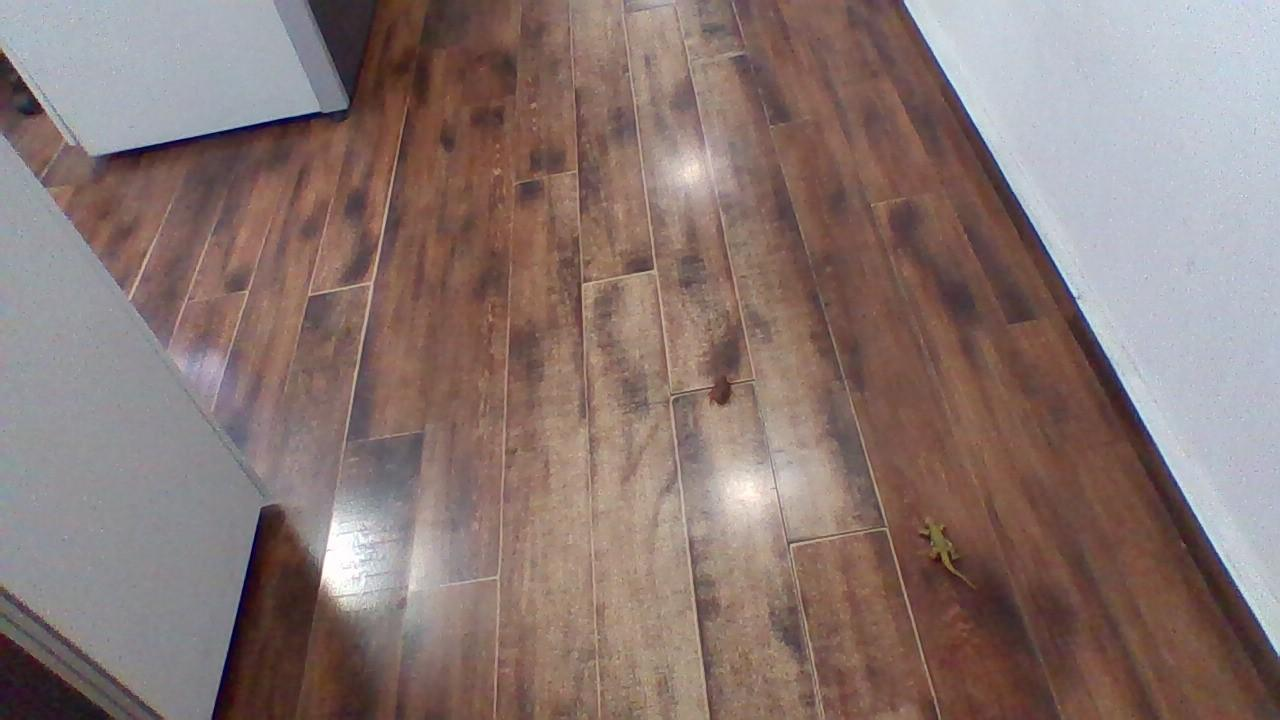cockroach: (699, 369, 745, 413)
lizard: (913, 503, 974, 586)
